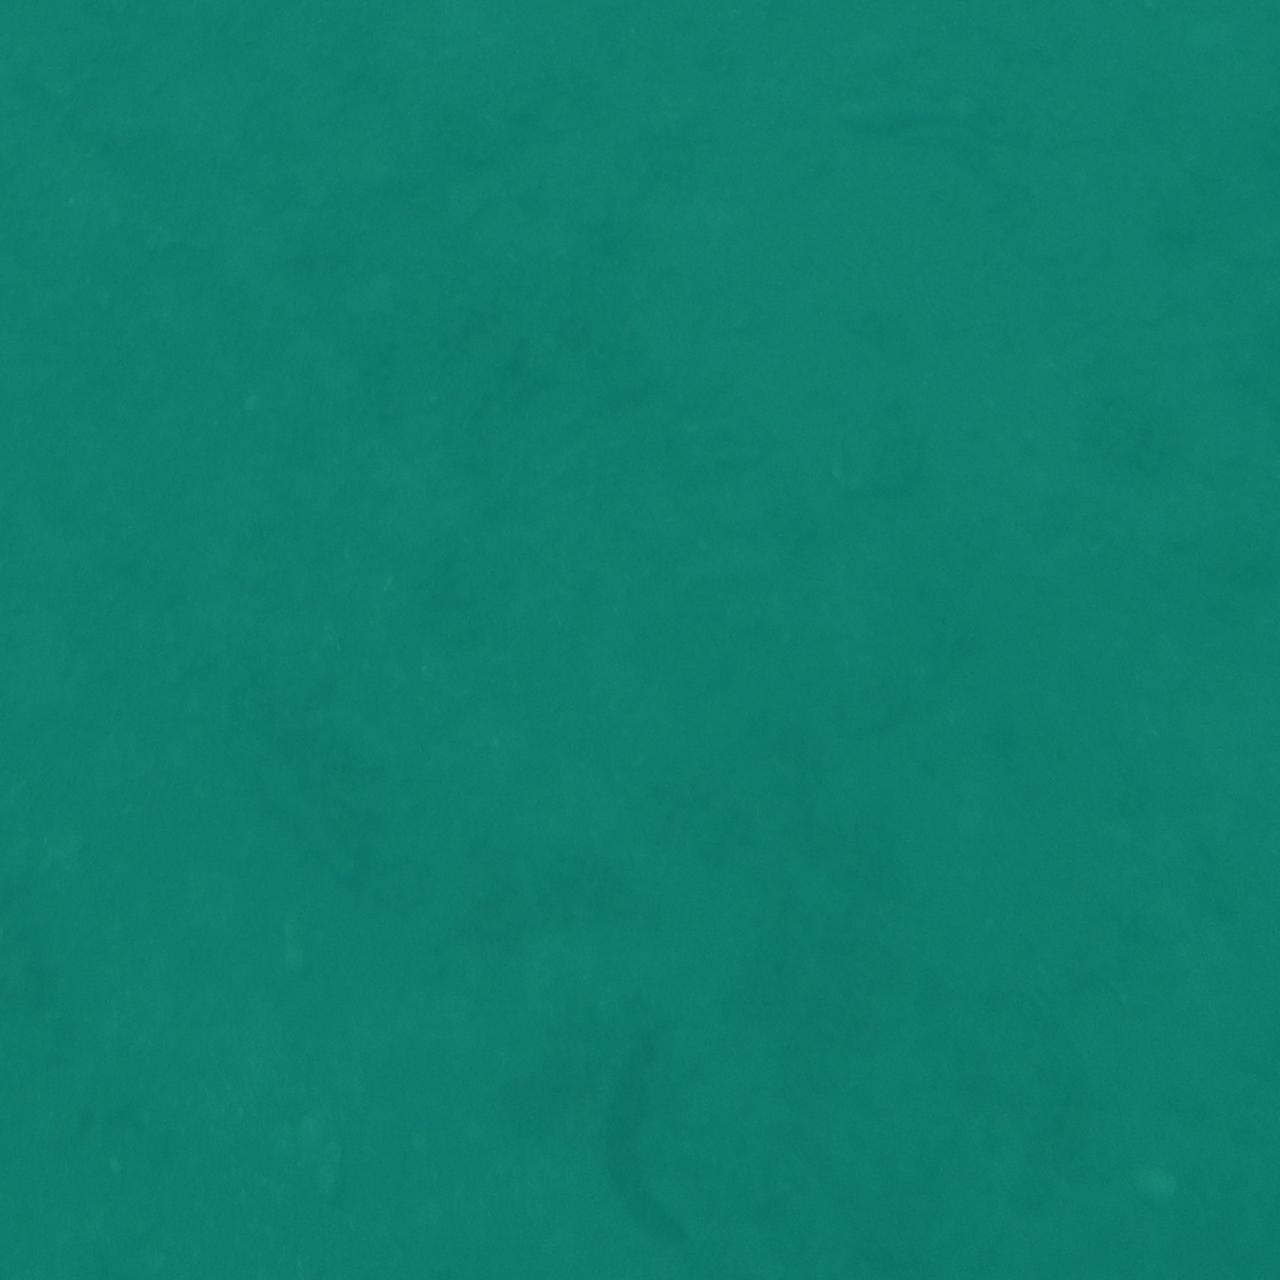Holothuria tubulosa: (588, 1009, 692, 1279)
